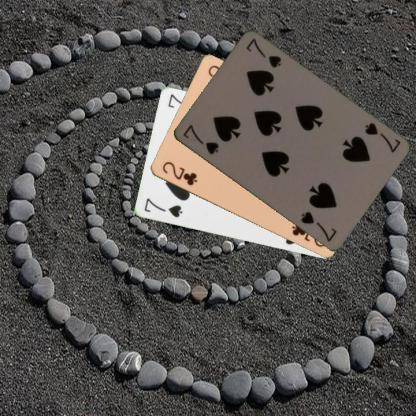2c: (160, 158, 198, 188)
7s: (362, 119, 402, 154), (180, 122, 221, 156), (141, 195, 184, 219)
